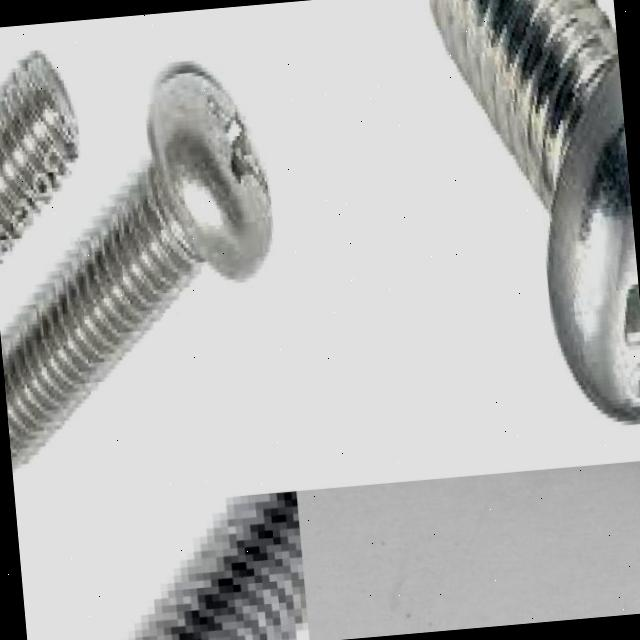Screw: (0, 60, 274, 473), (423, 0, 640, 425), (295, 459, 640, 607), (131, 491, 307, 640), (0, 49, 80, 260)
